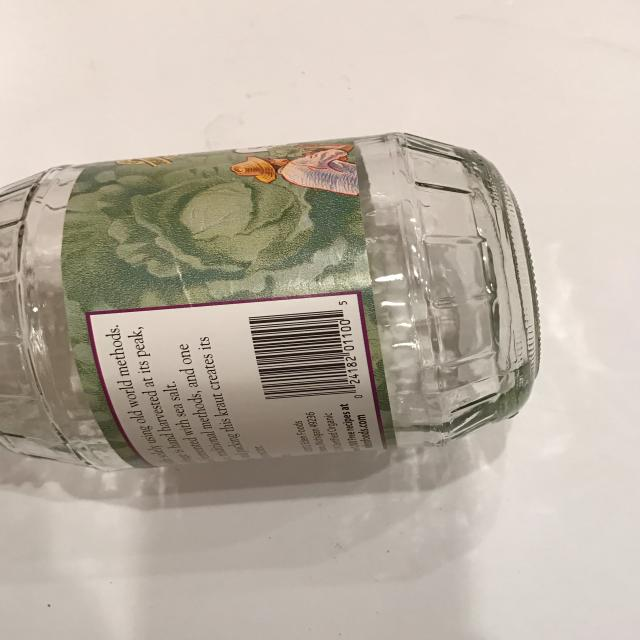glass: (0, 131, 542, 472)
